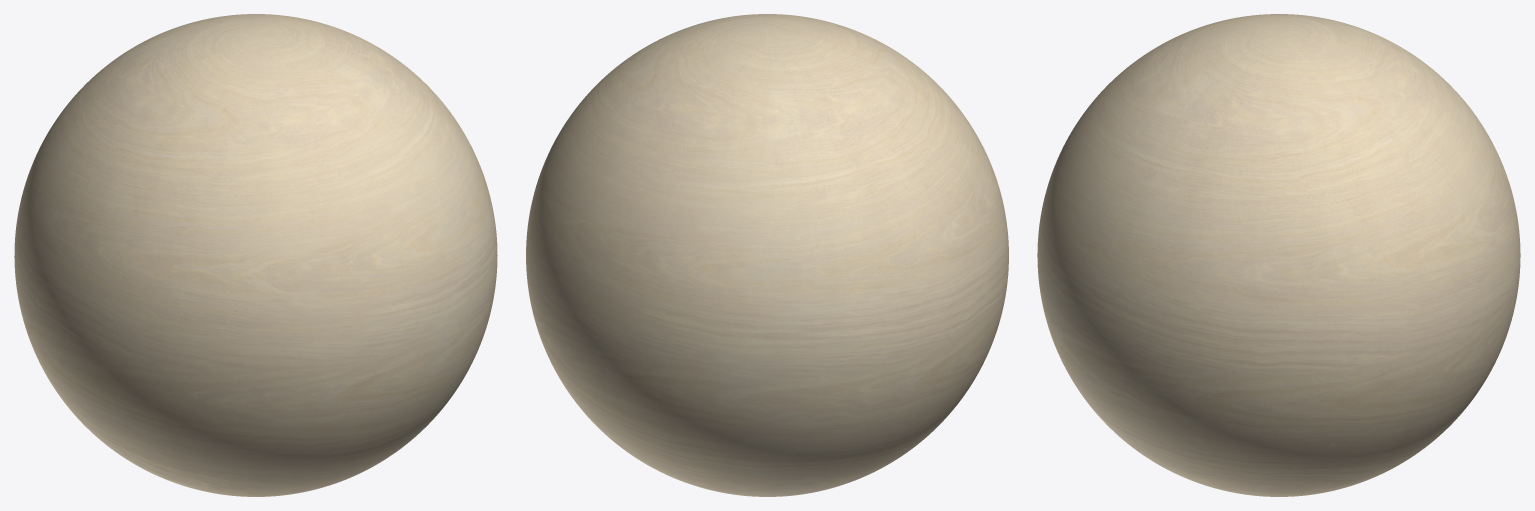
Rendered from white_maple_veneer_2k.gltf.
3 views of the same model, side by side, from view 1: azimuth 30°, elevation 25°; view 2: azimuth 150°, elevation 25°; view 3: azimuth 270°, elevation 25° (orthographic).
Visible parts, largest first — view 1: sphere_gltf; view 2: sphere_gltf; view 3: sphere_gltf.
Part boxes in pixels (x1,y1,x2,y2): sphere_gltf: (14,14,497,496); sphere_gltf: (526,14,1008,496); sphere_gltf: (1037,14,1520,496).
Size of the model in its own units: 1 by 1 by 1.
1 material, 1 textured.
